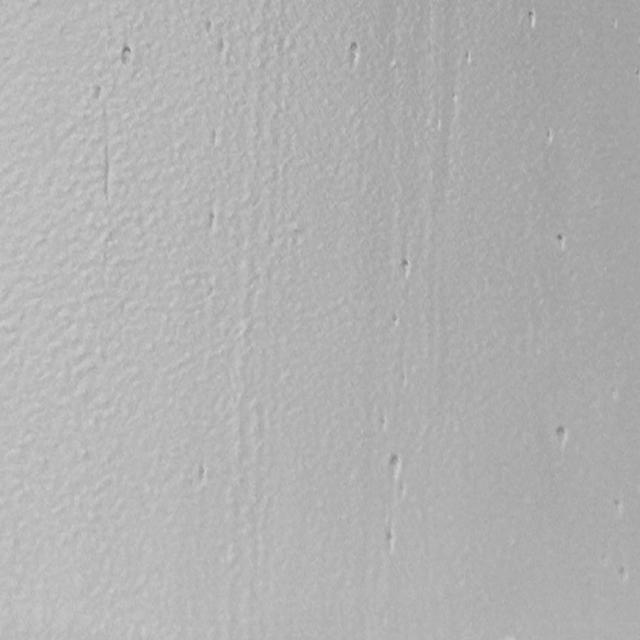pin holes: (386, 453, 406, 480), (345, 39, 364, 67), (117, 42, 135, 68), (382, 530, 400, 556), (523, 7, 541, 32), (553, 422, 571, 446), (540, 125, 558, 147), (553, 231, 570, 252), (400, 258, 414, 282), (614, 565, 630, 586), (208, 211, 221, 231), (463, 49, 476, 68), (203, 19, 215, 35)
